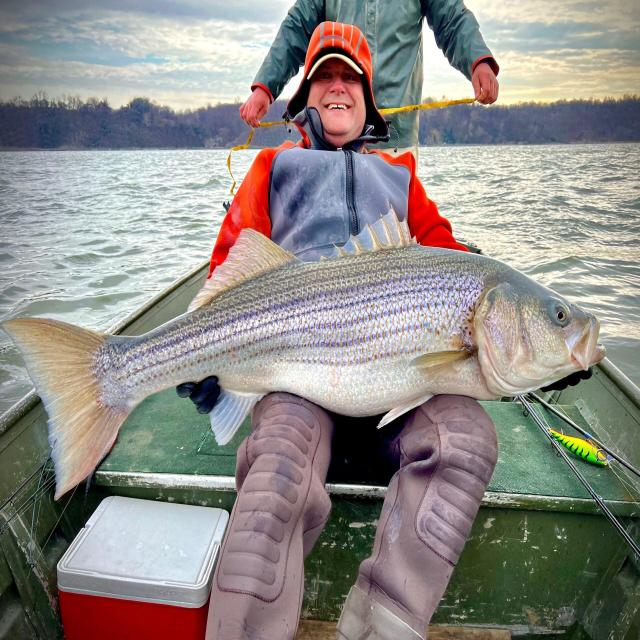Bass - Striped: (4, 246, 604, 499)
